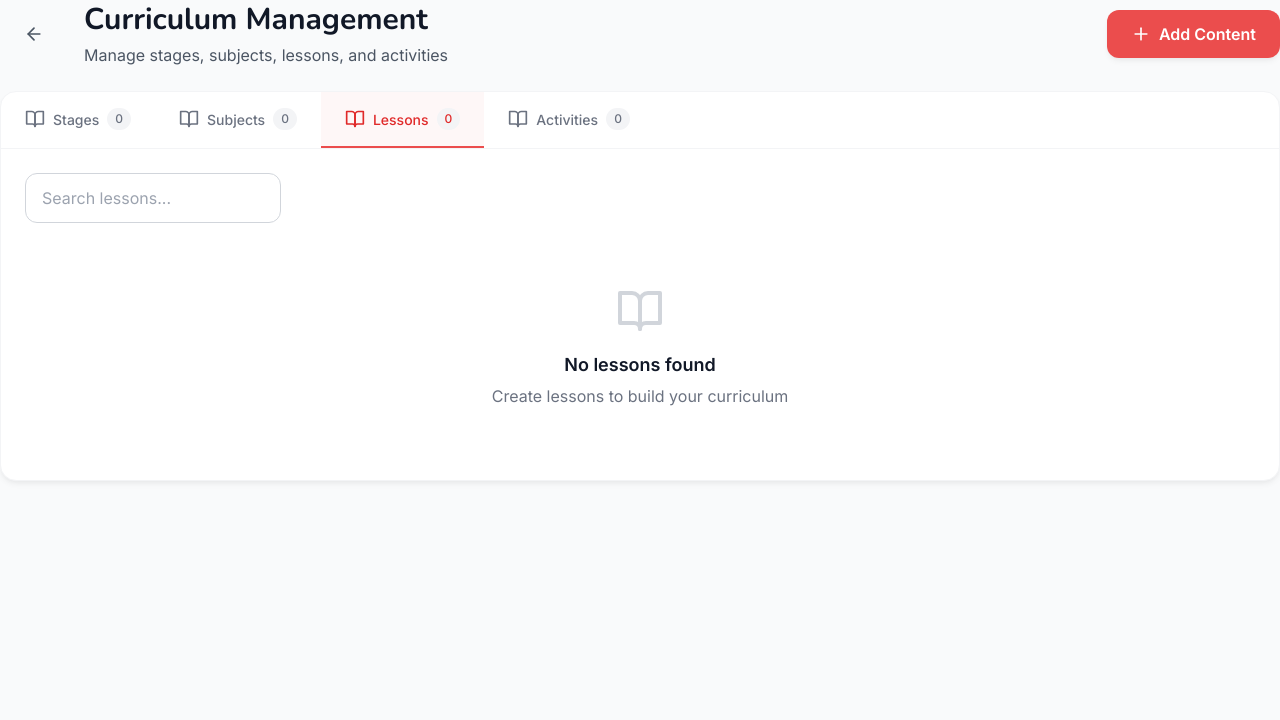
Scenario: CurriculumPage — Modal Open/Close › opens the Add Content modal when clicking Add Content button
Expected: the text "Add New Content" is not shown
Click the button "Add Content" at (1193, 34), box x1=1107 y1=10 x2=1279 y2=58
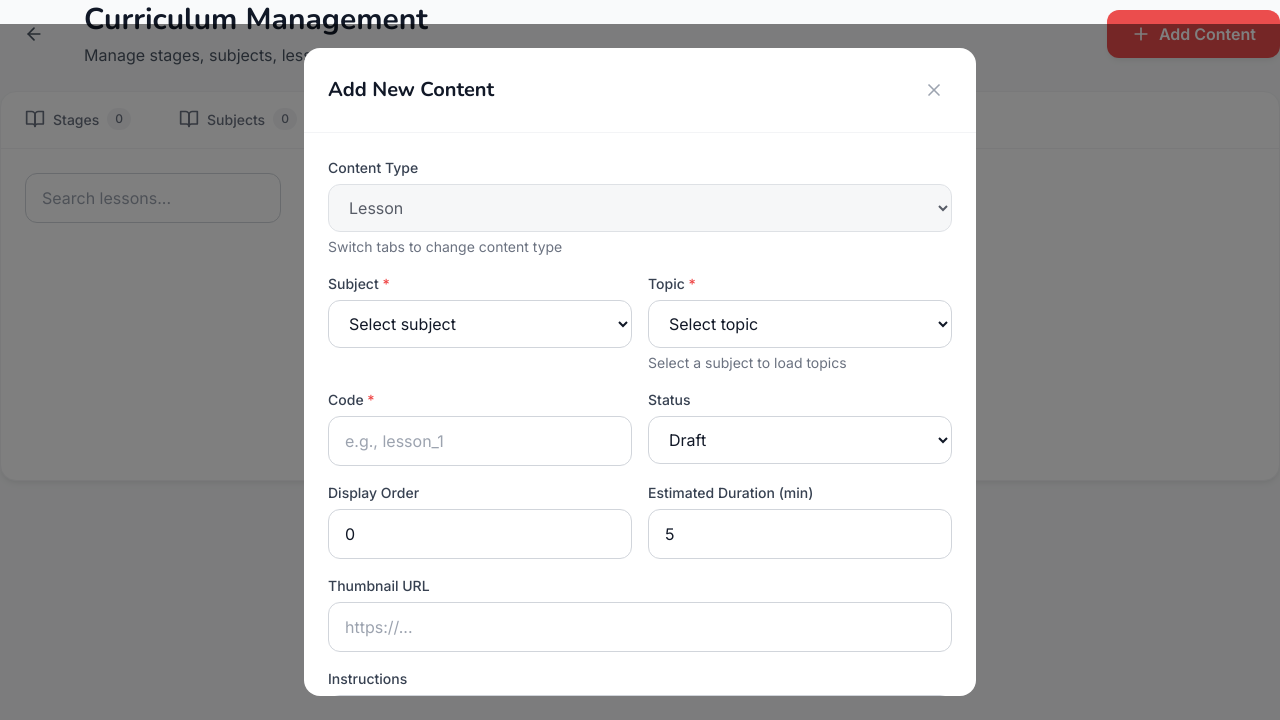
Expected: the heading "Add New Content" is shown, x1=328 y1=75 x2=494 y2=105
